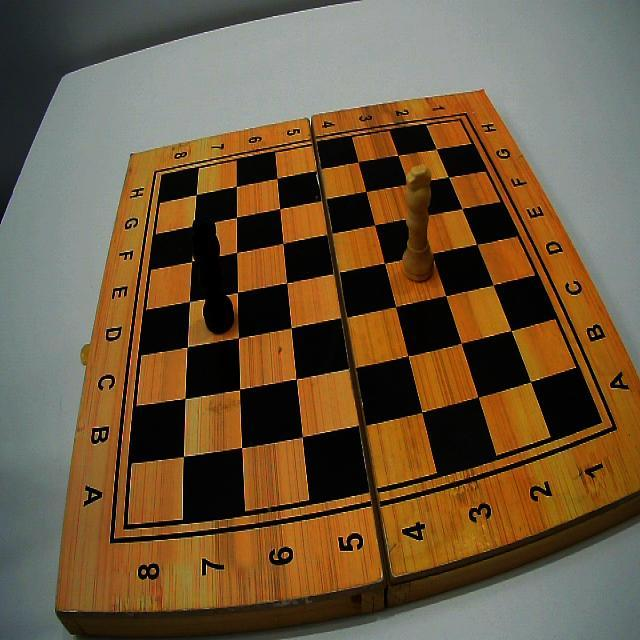black-king: (188, 215, 236, 335)
white-king: (402, 166, 434, 286)
